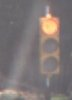Red: (39, 16, 60, 75)
